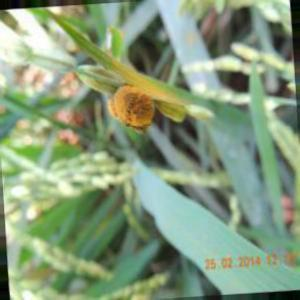Leaf_Scald: (115, 91, 152, 129)
